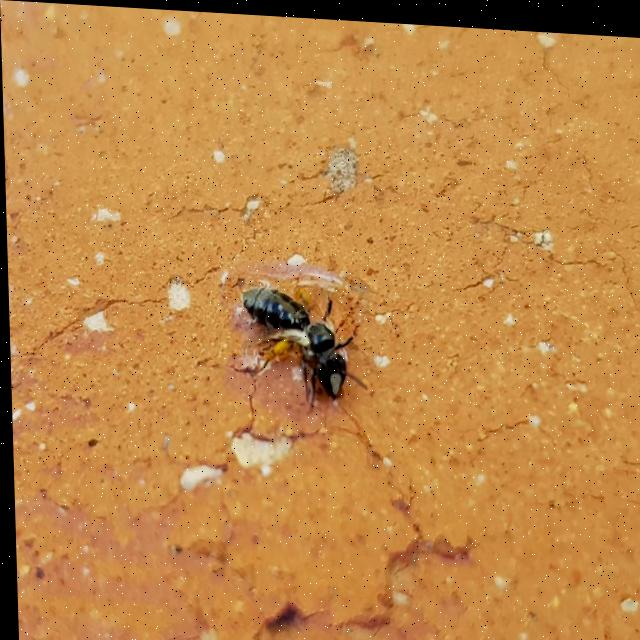Braunsapis: (233, 270, 369, 421)
